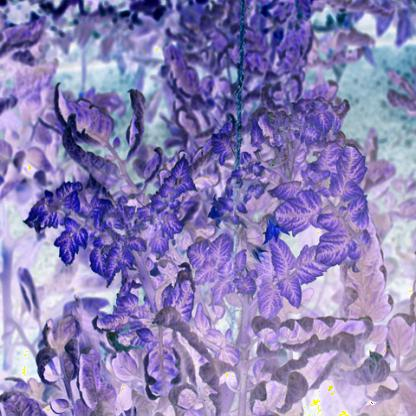tomato leaf yellow virus: (27, 179, 88, 230), (331, 146, 380, 205), (274, 186, 329, 236), (153, 160, 205, 208), (90, 221, 125, 289), (309, 227, 354, 271), (53, 216, 92, 266), (187, 241, 225, 285), (271, 229, 297, 287), (259, 272, 284, 322), (207, 227, 233, 274), (166, 278, 197, 316), (279, 277, 304, 318), (159, 207, 181, 240)
